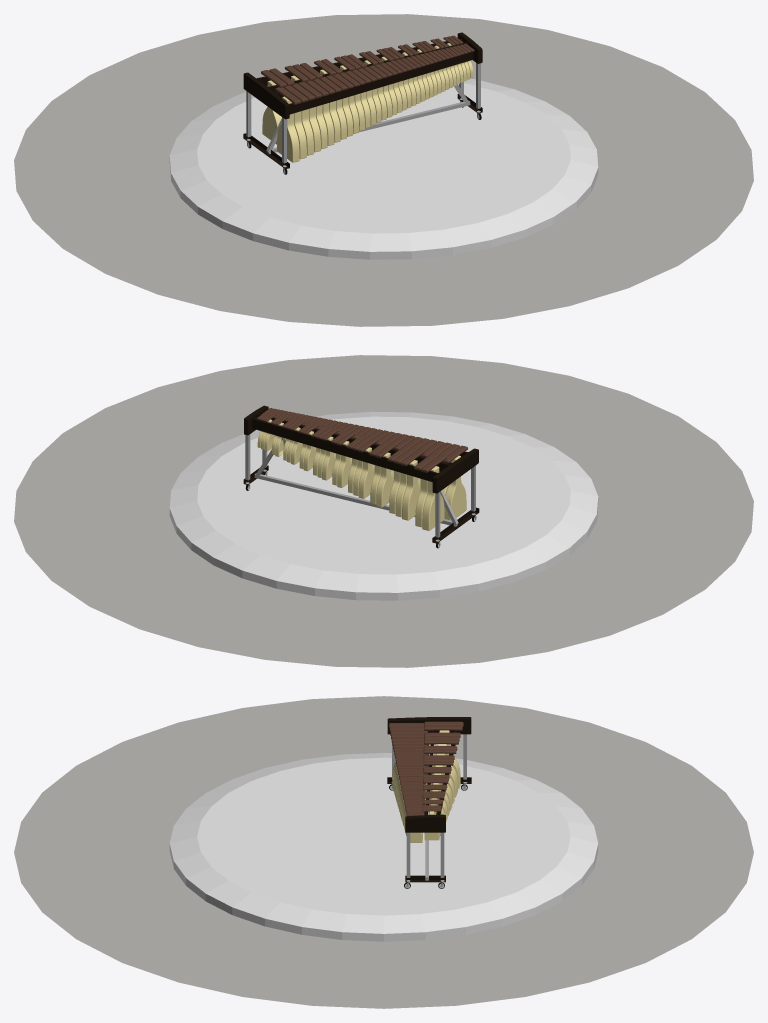
Rendered from marimba.glb.
The picture shows the model from 3 angles, top to bottom: view 1: azimuth 30°, elevation 25°; view 2: azimuth 150°, elevation 25°; view 3: azimuth 270°, elevation 25°; orthographic projection.
Parts seen in each view (by area): view 1: ground, stage, Cube.015, Cube, Cube.014, Cube.010, Cube.021; view 2: ground, stage, Cube.010, Cube.013, Cube.014, Cube.015, Cube.021; view 3: ground, stage, Cube.010, Cube.018, Cube.014, Cube.015.
Part boxes in pixels (bbox=[...]): ground: bbox=[14, 14, 753, 326]; stage: bbox=[169, 78, 598, 259]; Cube.015: bbox=[277, 60, 473, 162]; Cube: bbox=[289, 51, 473, 114]; Cube.014: bbox=[243, 72, 289, 119]; Cube.010: bbox=[262, 43, 451, 144]; Cube.021: bbox=[267, 100, 470, 154]; ground: bbox=[14, 355, 753, 667]; stage: bbox=[169, 411, 598, 600]; Cube.010: bbox=[257, 419, 444, 530]; Cube.013: bbox=[252, 418, 437, 481]; Cube.014: bbox=[432, 448, 478, 493]; Cube.015: bbox=[274, 435, 466, 520]; Cube.021: bbox=[254, 473, 457, 526]; ground: bbox=[14, 696, 753, 1008]; stage: bbox=[169, 753, 598, 941]; Cube.010: bbox=[424, 730, 460, 840]; Cube.018: bbox=[405, 814, 445, 832]; Cube.014: bbox=[387, 717, 471, 734]; Cube.015: bbox=[392, 762, 422, 842].
Bounding box in the file's own units: 8 × 1.08 × 8.
